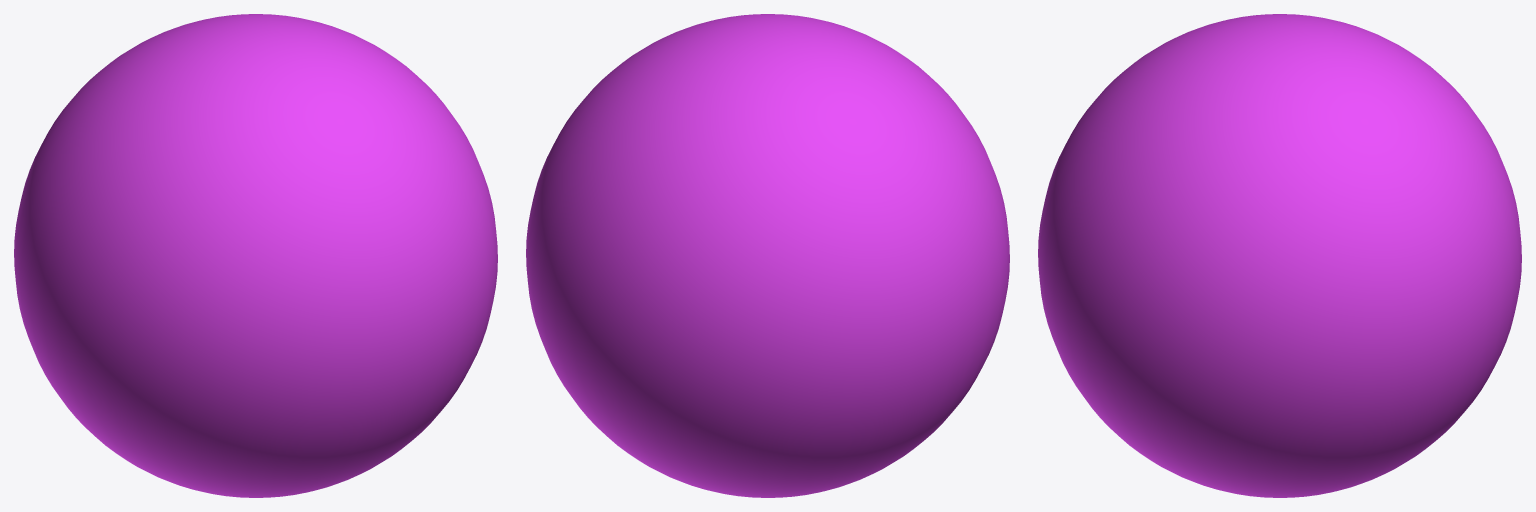
The picture shows the model from 3 angles, left to right: view 1: azimuth 30°, elevation 25°; view 2: azimuth 150°, elevation 25°; view 3: azimuth 270°, elevation 25°; orthographic projection.
Parts seen in each view (by area): view 1: Object_4; view 2: Object_4; view 3: Object_4.
Boxes of the visible parts, x1,y1,x2,y2 form: Object_4: (14,14,497,497); Object_4: (526,14,1009,497); Object_4: (1038,14,1521,497).
Size of the model in its own units: 0.9997 by 1 by 0.9997.
